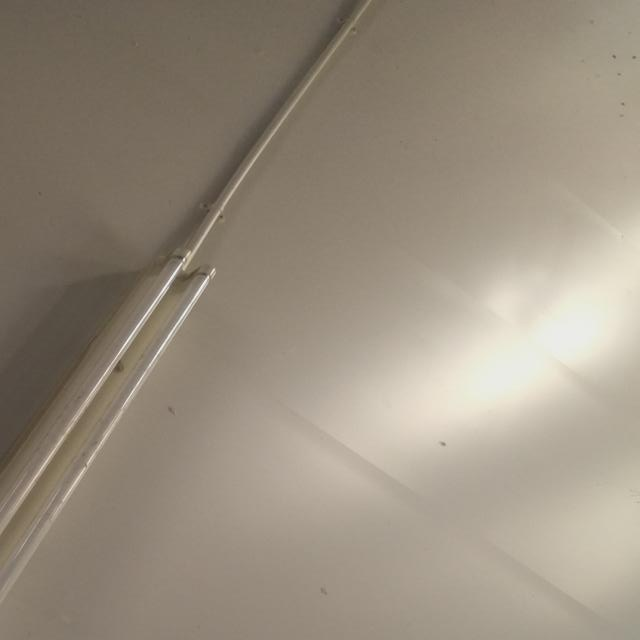fluorescent tube: (0, 219, 263, 640)
